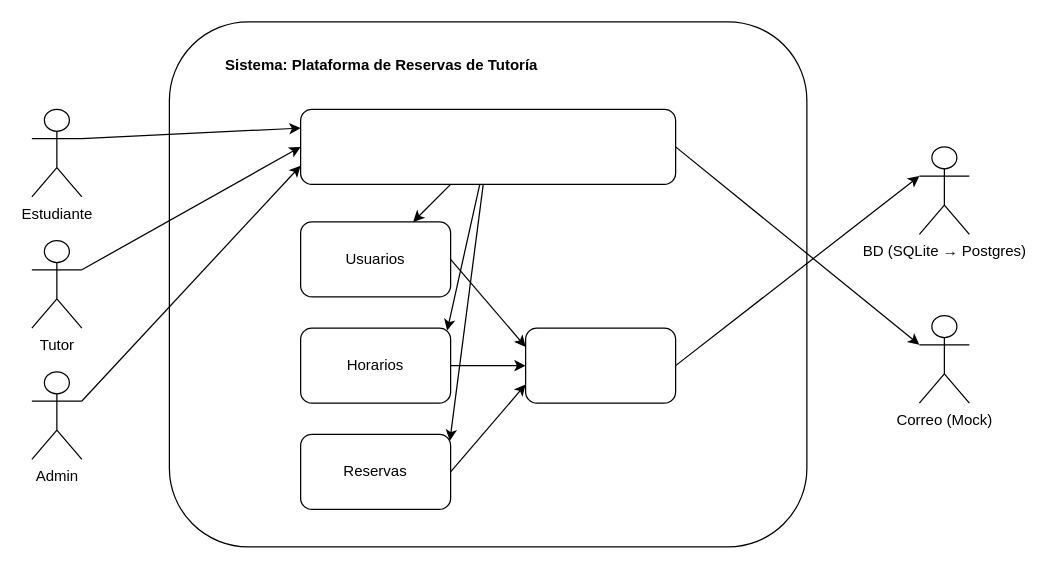
Some shapes in this 1048 by 569 pixel diagram are drawn without their labels. Here are the shapes that lost their labels. From the top down, the centre of each, then its label:
point 487,146: API (FastAPI)
point 600,365: Repo (Memoria)
